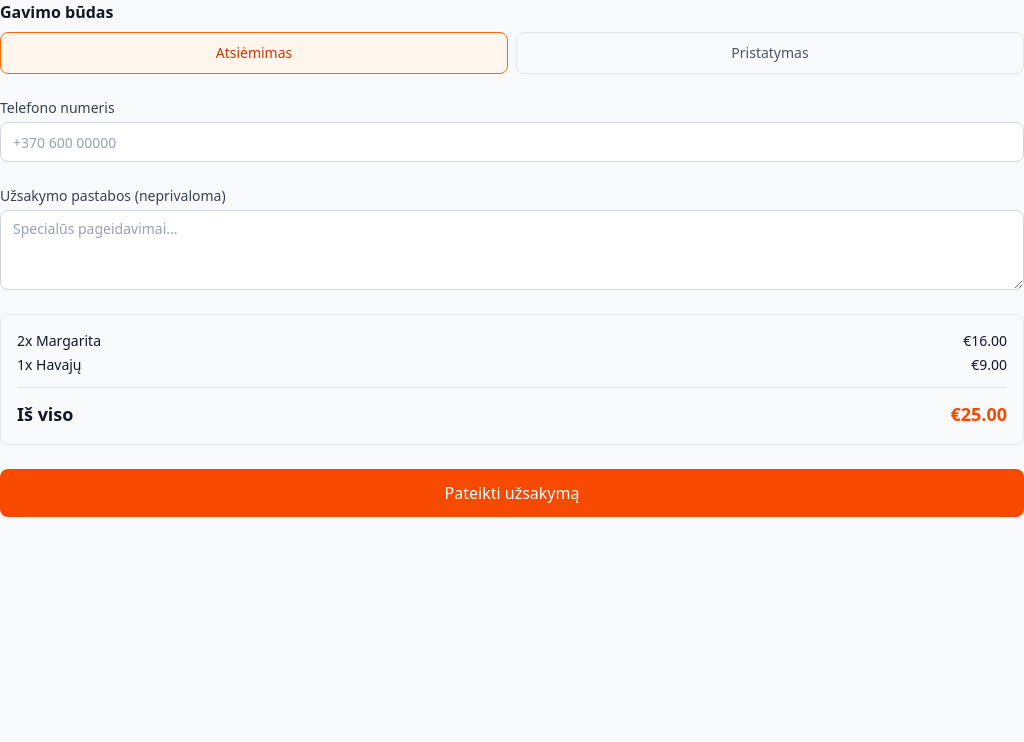
Scenario: CheckoutForm › validation: delivery needs street
The width and height of the screenshot is (1024, 742).
Click the button "Pristatymas": x=770, y=53 [516, 32, 1023, 74]
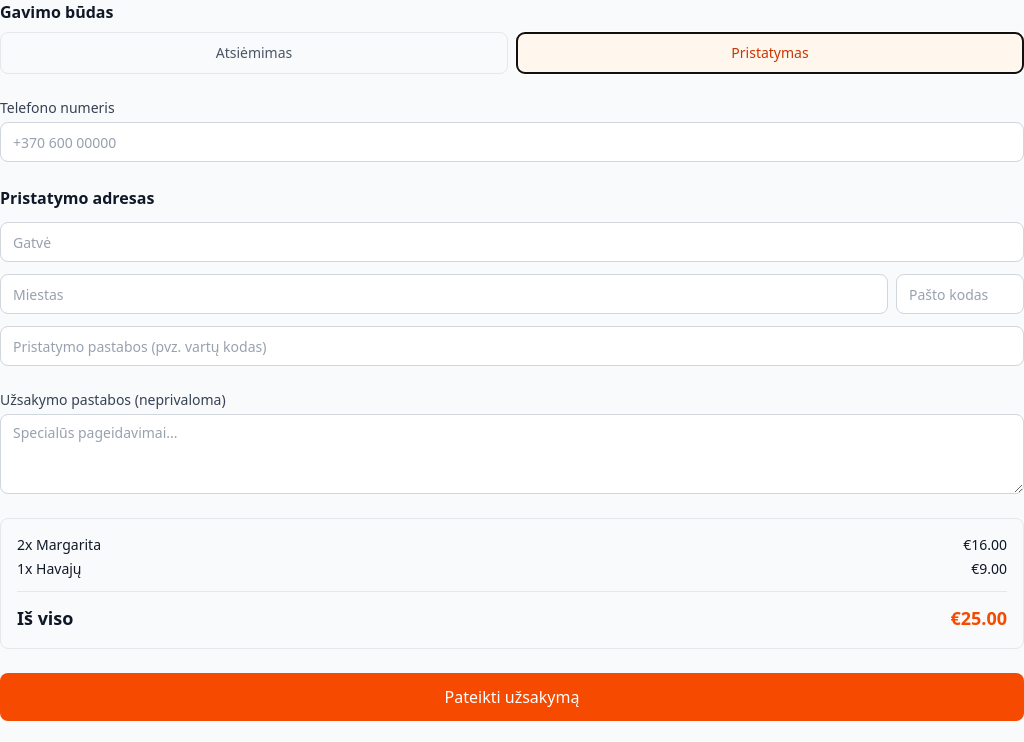
In the field with placeholder "+370 600 00000": x=512, y=142 [0, 122, 1023, 162], type "+37060000000"
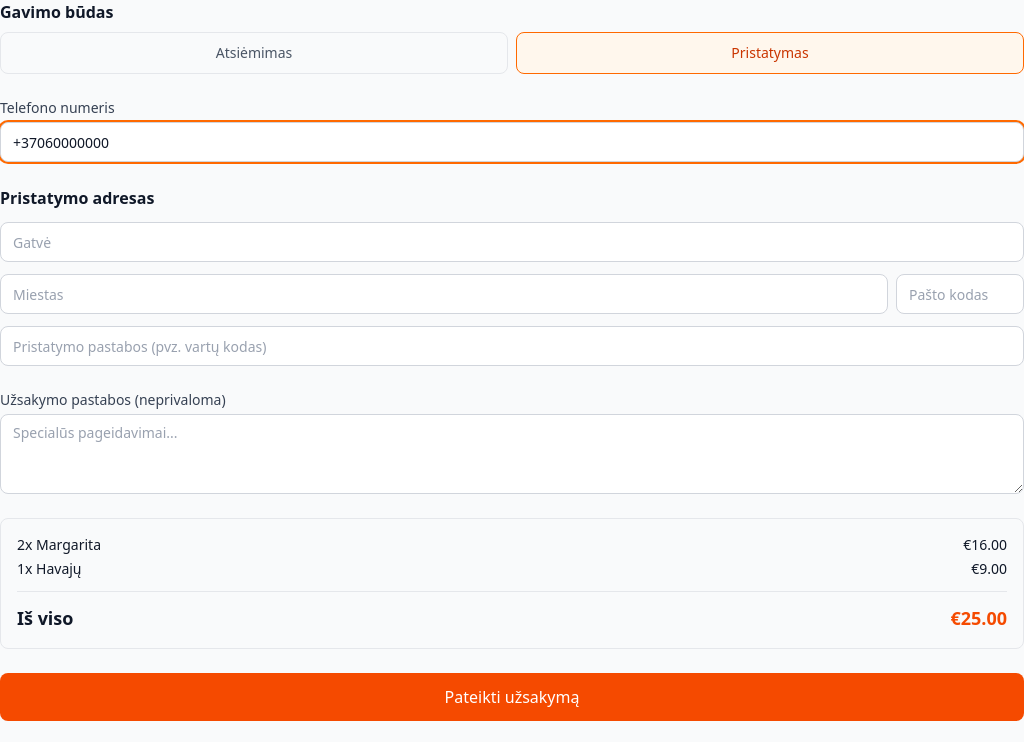
Click the button "Pateikti užsakymą": x=512, y=697 [0, 673, 1023, 721]
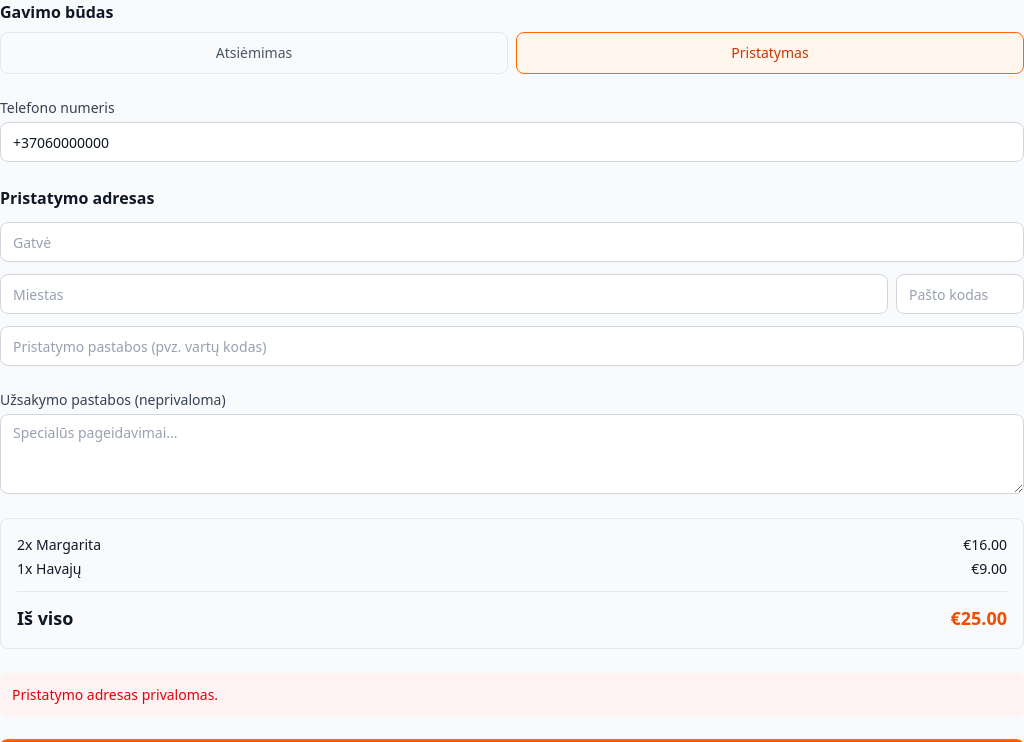
Expected: the text "Pristatymo adresas privalomas." is shown, [0, 673, 1023, 717]
